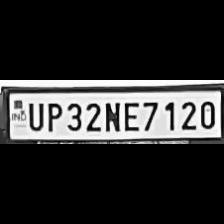0: (197, 98, 217, 130)
1: (160, 99, 176, 131)
2: (82, 99, 102, 133), (177, 98, 197, 132)
3: (64, 99, 82, 131)
7: (140, 98, 158, 132)
E: (121, 100, 139, 132)
N: (103, 100, 120, 132)
P: (44, 100, 62, 132)
U: (24, 99, 43, 130)
